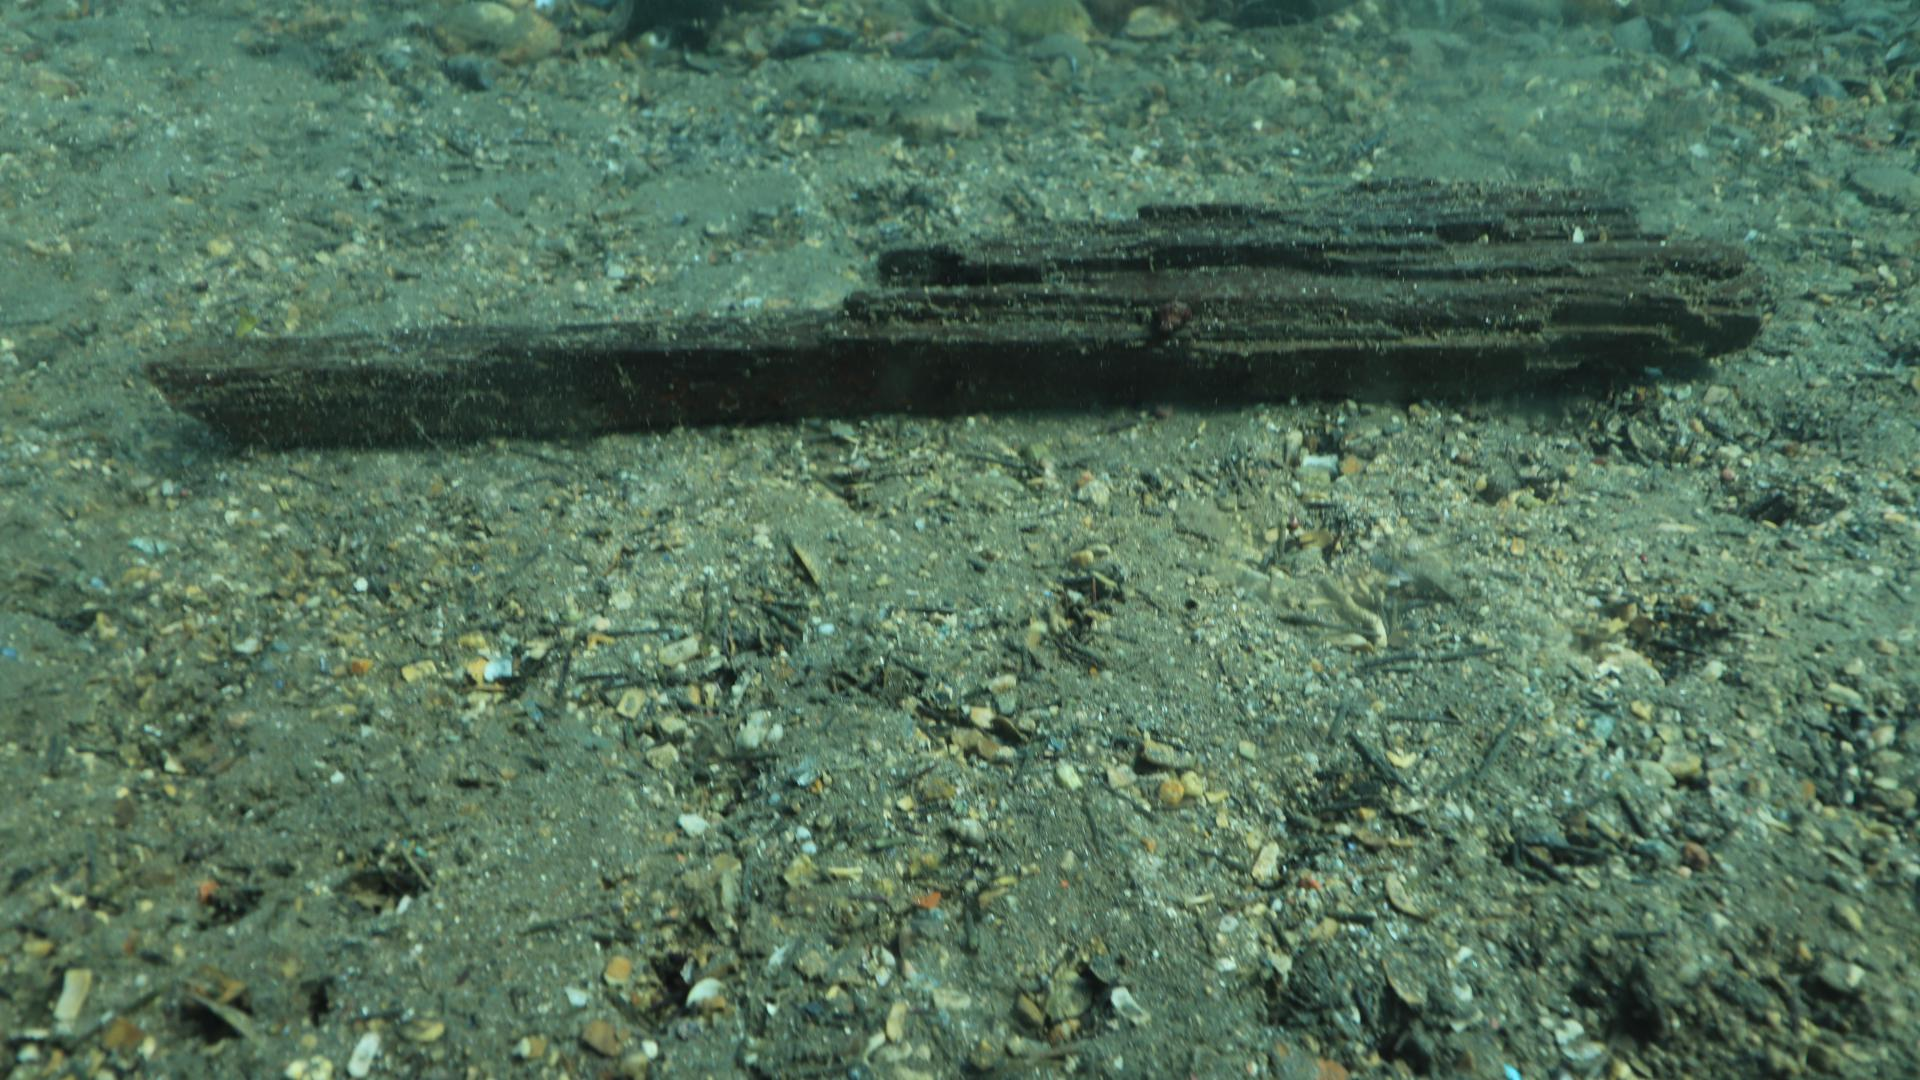wood: (138, 171, 1760, 447)
